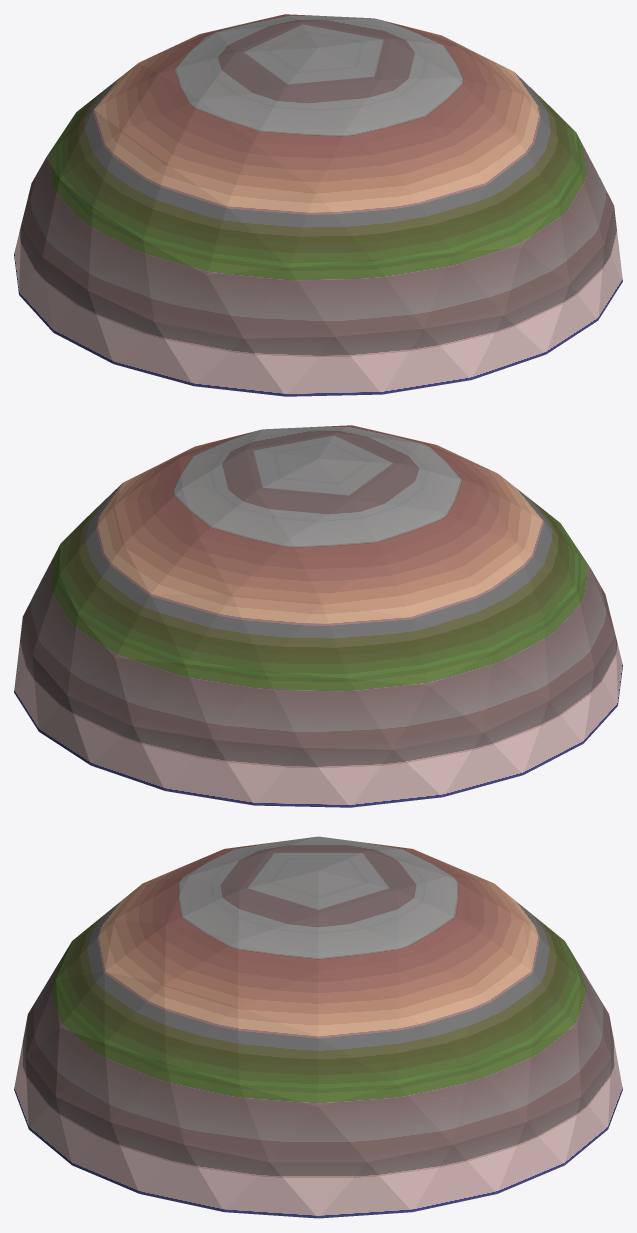
Rendered from SkyDome.glb.
3 renders of one model, top to bottom at view 1: azimuth 30°, elevation 25°; view 2: azimuth 150°, elevation 25°; view 3: azimuth 270°, elevation 25°, orthographic.
Parts seen in each view (by area): view 1: SkyDome_00; view 2: SkyDome_00; view 3: SkyDome_00.
Part boxes in pixels (<box>): SkyDome_00: <box>14,14,622,396</box>; SkyDome_00: <box>14,425,622,807</box>; SkyDome_00: <box>14,836,622,1218</box>.
Size of the model in its own units: 6588 by 2713 by 6588.
1 material, 1 textured.
